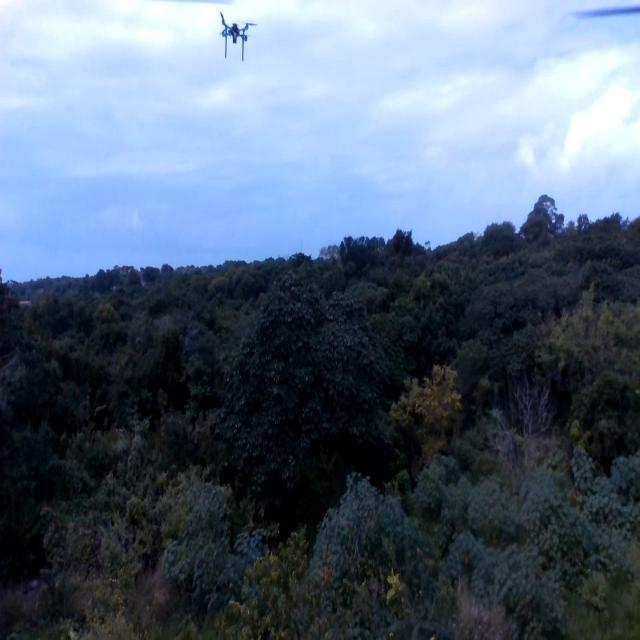-uav-: (212, 8, 268, 82)
